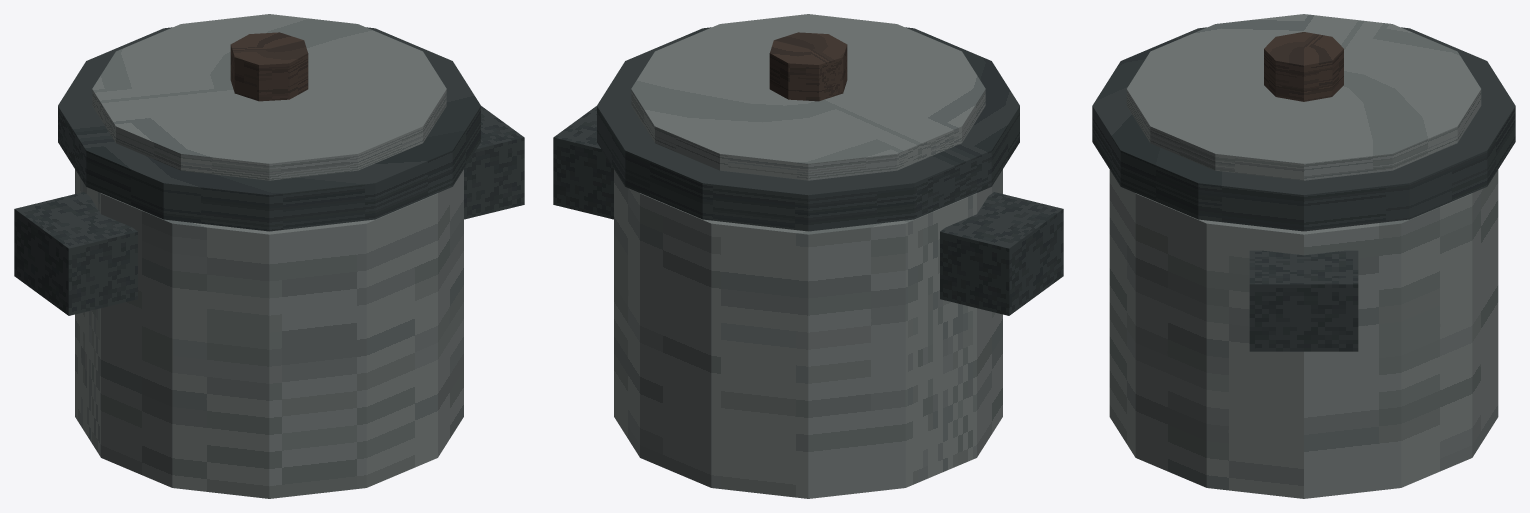
Rendered from olla.glb.
3 views of the same model, side by side, from view 1: azimuth 30°, elevation 25°; view 2: azimuth 150°, elevation 25°; view 3: azimuth 270°, elevation 25° (orthographic).
Visible parts, largest first — view 1: olla; view 2: olla; view 3: olla.
Boxes of the visible parts, left/top/right/bottom form: olla: left=14, top=14, right=524, bottom=498; olla: left=553, top=14, right=1063, bottom=498; olla: left=1092, top=14, right=1515, bottom=498.
Size of the model in its own units: 0.2804 by 0.2164 by 0.2256.
1 material, 1 textured.
